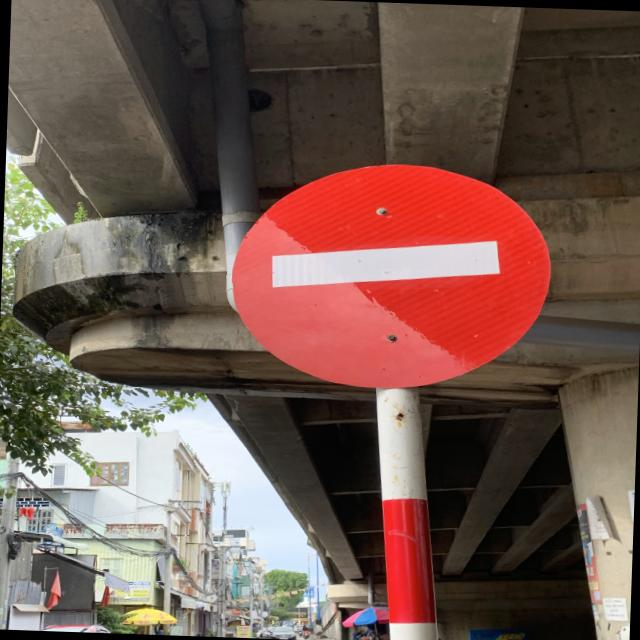Cam_Di_Nguoc_Chieu: (228, 154, 564, 406)
